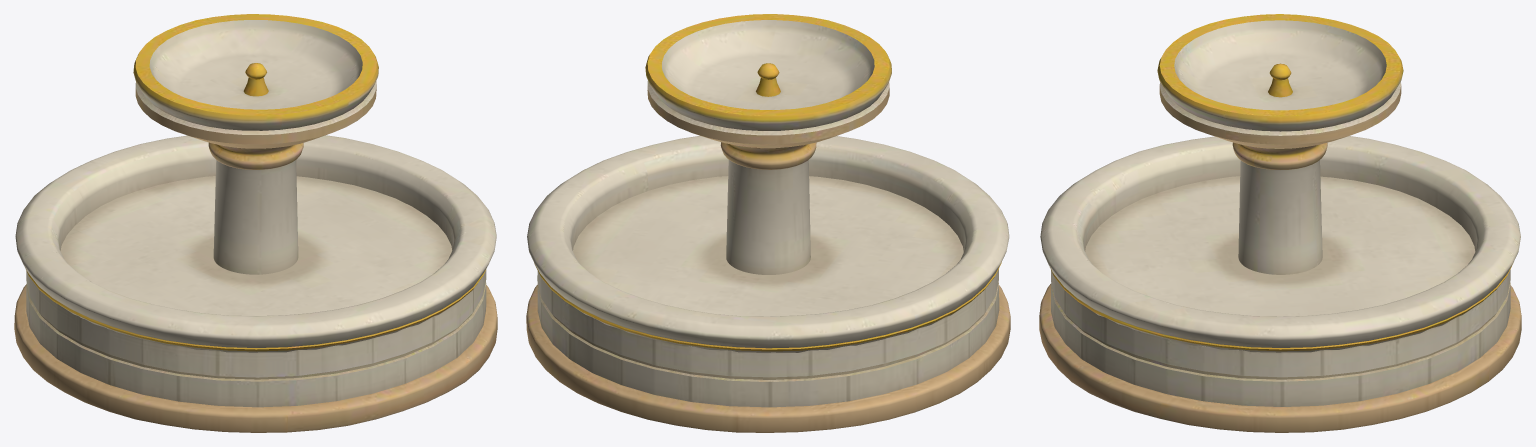
Rendered from dry-fountain.glb.
3 views of the same model, side by side, from view 1: azimuth 30°, elevation 25°; view 2: azimuth 150°, elevation 25°; view 3: azimuth 270°, elevation 25° (orthographic).
Parts seen in each view (by area): view 1: fountain; view 2: fountain; view 3: fountain.
Boxes of the visible parts, x1,y1,x2,y2 form: fountain: (14,14,497,432); fountain: (526,14,1010,432); fountain: (1039,14,1521,432).
Bounding box in the file's own units: 3.4 × 2.09 × 3.4.
Materials: 6 (6 with a texture image).
